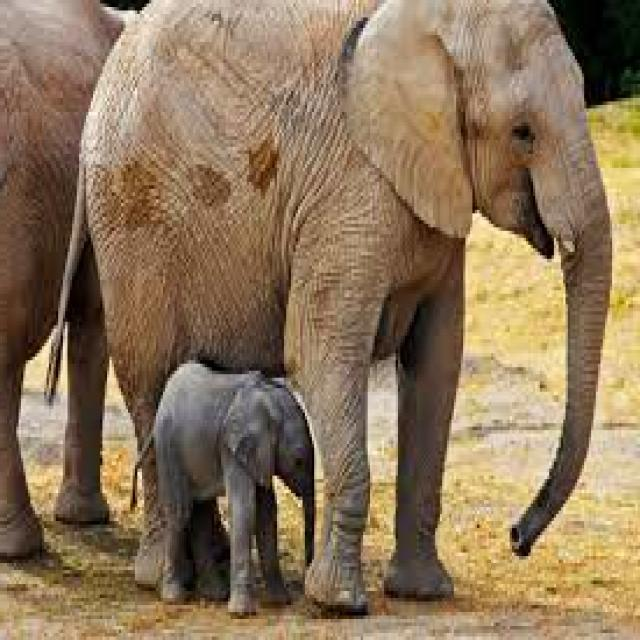elephant: (47, 0, 612, 605), (133, 360, 317, 609)
